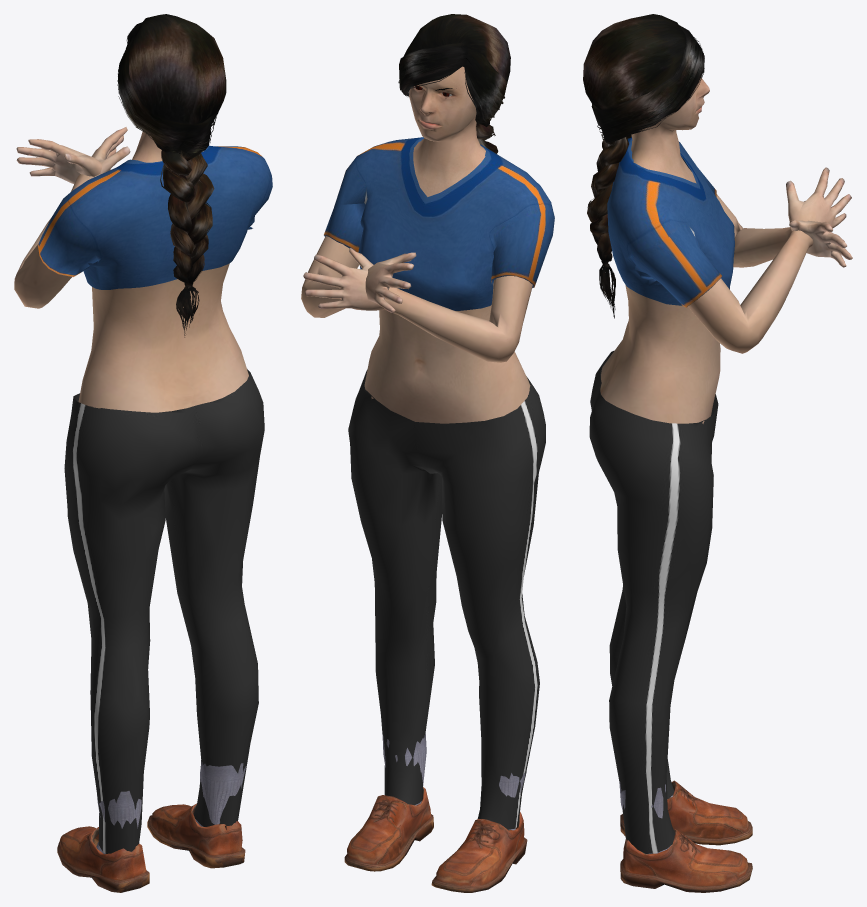
File: clapping_1.gltf
The picture shows the model from 3 angles, left to right: view 1: azimuth 30°, elevation 25°; view 2: azimuth 150°, elevation 25°; view 3: azimuth 270°, elevation 25°; orthographic projection. The views are drawn at different scales.
Parts seen in each view (by area): view 1: clapping; view 2: clapping; view 3: clapping.
Part boxes in pixels (<box>): clapping: <box>14,14,272,892</box>; clapping: <box>301,14,554,892</box>; clapping: <box>583,14,852,892</box>.
Size of the model in its own units: 0.4818 by 1.81 by 0.5292.
Materials: 6 (6 with a texture image).
